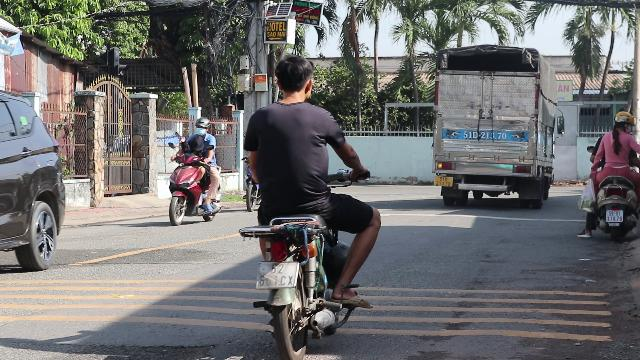helmet: (611, 111, 631, 131), (193, 117, 209, 133)
licenseplate: (256, 262, 296, 286), (606, 210, 622, 222)
motorcyclist: (234, 54, 384, 356), (578, 109, 640, 241), (165, 115, 223, 225)
nohelmet: (272, 55, 314, 102)
